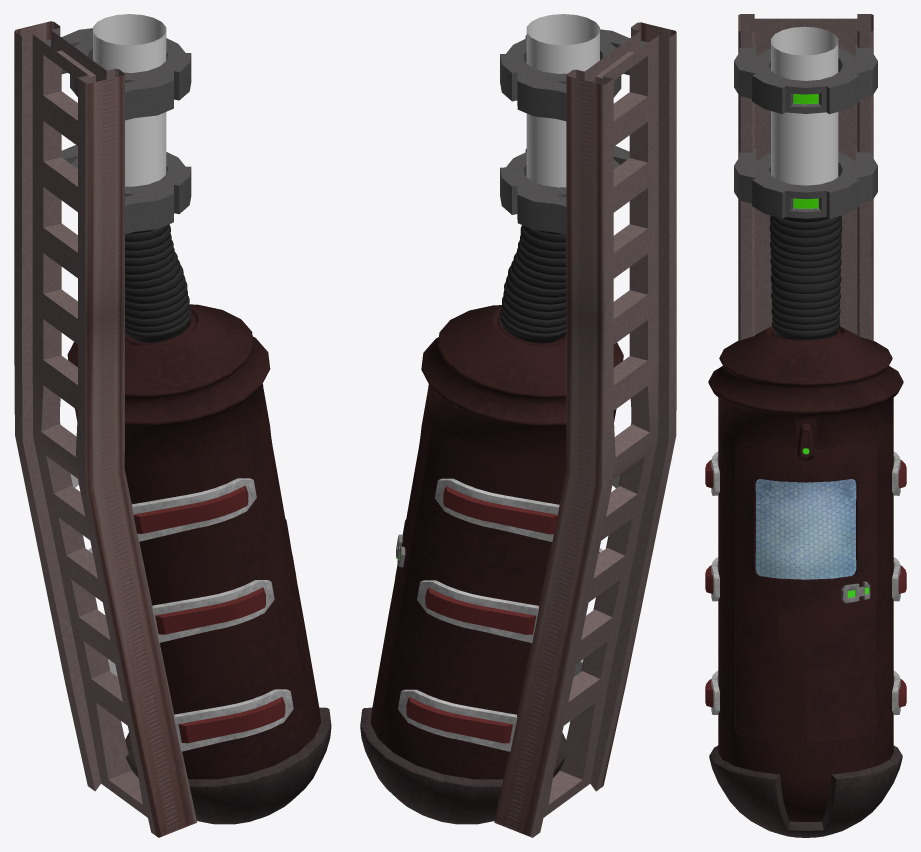
The model's file is Cryo_Pod_Closed.FBX.
The picture shows the model from 3 angles, left to right: view 1: azimuth 30°, elevation 25°; view 2: azimuth 150°, elevation 25°; view 3: azimuth 270°, elevation 25°; orthographic projection. The views are drawn at different scales.
Visible parts, largest first — view 1: pCube1, pod_main, Cylinder001, pod_bottom, pCylinder1, pPipe6, pPipe5, polySurface50, polySurface47, polySurface51, polySurface49, polySurface48 (+3 smaller); view 2: pCube1, pod_main, Cylinder001, pod_bottom, pCylinder1, pPipe6, pPipe5, polySurface56, polySurface53, polySurface57, polySurface55, polySurface54 (+3 smaller); view 3: pod_main, pod_door_a, pCube1, pCylinder1, pod_door_c, pod_door_b, Cylinder001, pod_bottom, pPipe5, pPipe6.
Boxes of the visible parts, bbox=[...] form: pCube1: bbox=[14, 21, 197, 837]; pod_main: bbox=[67, 304, 320, 779]; Cylinder001: bbox=[93, 14, 166, 186]; pod_bottom: bbox=[125, 707, 331, 824]; pCylinder1: bbox=[125, 224, 191, 342]; pPipe6: bbox=[43, 28, 191, 120]; pPipe5: bbox=[61, 145, 191, 233]; polySurface50: bbox=[133, 485, 248, 533]; polySurface47: bbox=[155, 587, 265, 634]; polySurface51: bbox=[178, 697, 285, 743]; polySurface49: bbox=[132, 478, 256, 541]; polySurface48: bbox=[152, 580, 274, 642]; pCube1: bbox=[494, 22, 676, 837]; pod_main: bbox=[370, 305, 623, 779]; Cylinder001: bbox=[526, 14, 599, 187]; pod_bottom: bbox=[360, 707, 565, 824]; pCylinder1: bbox=[500, 225, 566, 343]; pPipe6: bbox=[500, 29, 648, 121]; pPipe5: bbox=[500, 145, 629, 234]; polySurface56: bbox=[443, 486, 557, 534]; polySurface53: bbox=[425, 587, 535, 634]; polySurface57: bbox=[406, 697, 512, 743]; polySurface55: bbox=[434, 478, 559, 541]; polySurface54: bbox=[417, 580, 538, 642]; pod_main: bbox=[708, 326, 903, 821]; pod_door_a: bbox=[735, 423, 876, 645]; pCube1: bbox=[738, 14, 873, 340]; pCylinder1: bbox=[769, 215, 842, 339]; pod_door_c: bbox=[806, 603, 876, 742]; pod_door_b: bbox=[735, 603, 805, 742]; Cylinder001: bbox=[771, 26, 838, 185]; pod_bottom: bbox=[709, 745, 902, 837]; pPipe5: bbox=[734, 148, 877, 218]; pPipe6: bbox=[734, 44, 877, 114].
Bounding box in the file's own units: 283 × 834 × 204.
